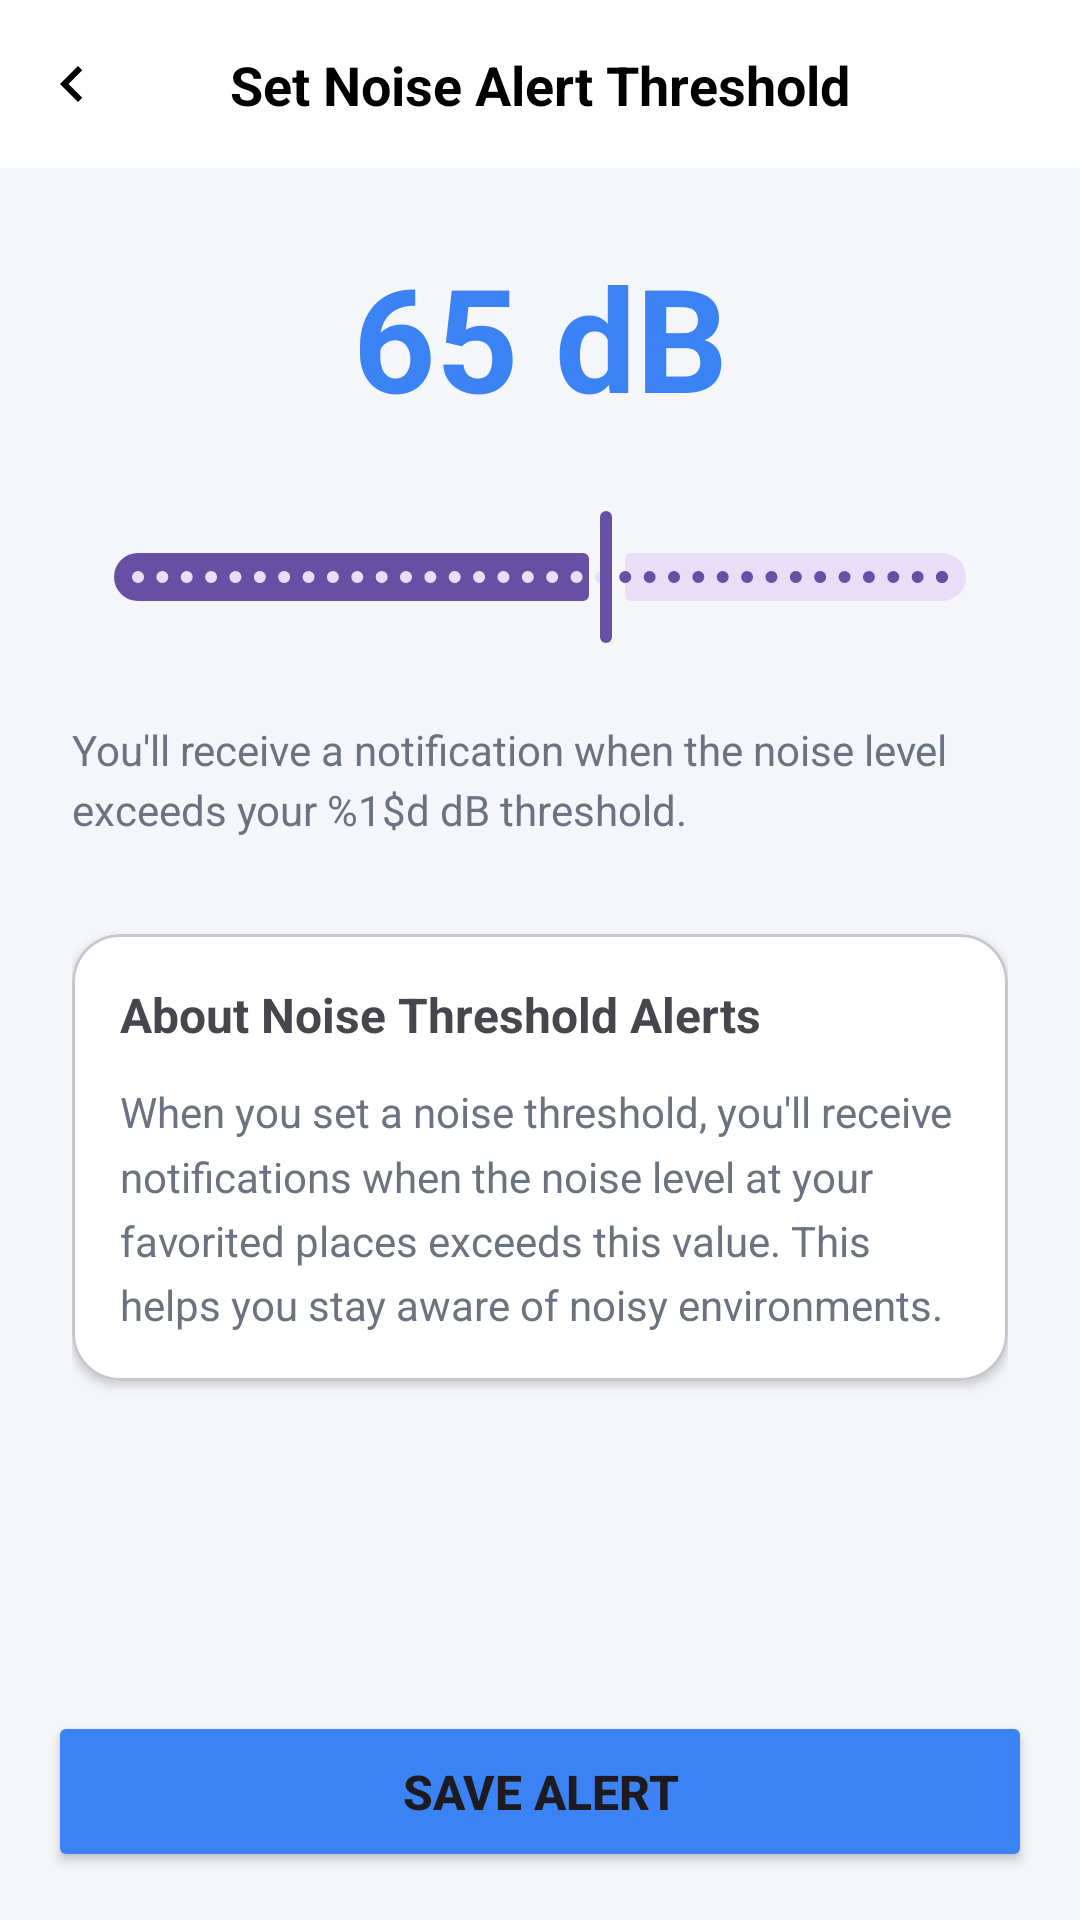

Locate icon controls on the screen. Image size 1080 x 1920, boxes as (x1, y1, x2, y2).
back chevron: (60, 66, 82, 102)
